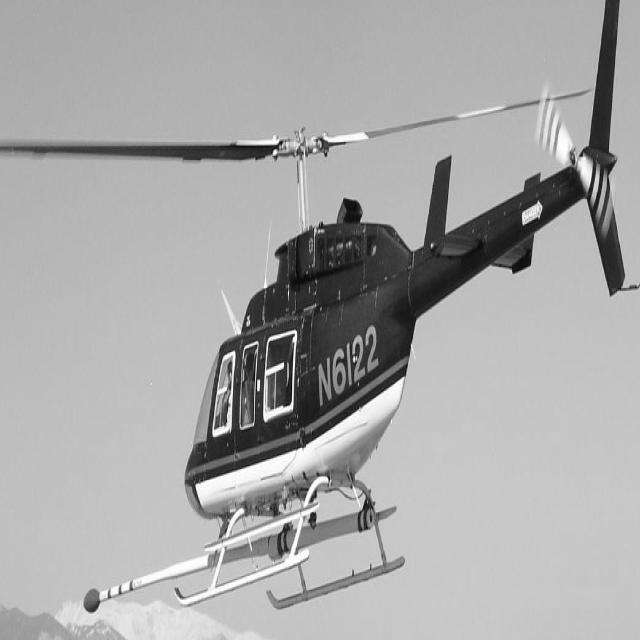helicopter: (1, 1, 639, 615)
